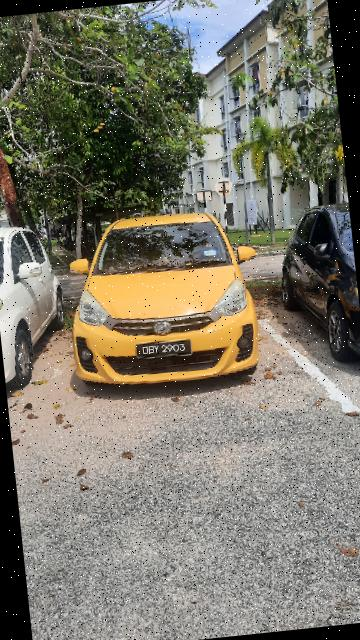License_Plate: (135, 336, 196, 362)
car: (56, 201, 277, 400)
